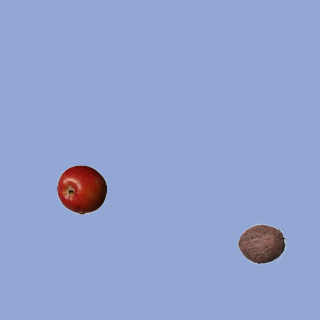Apple Braeburn: (56, 164, 106, 214)
Cocos: (236, 218, 286, 268)
